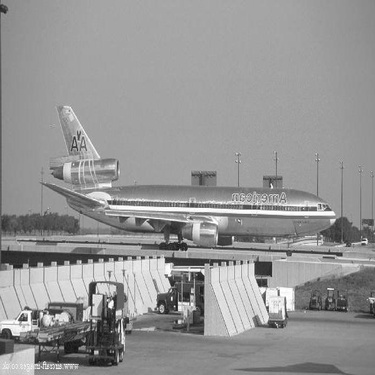airplane: (26, 100, 345, 256)
